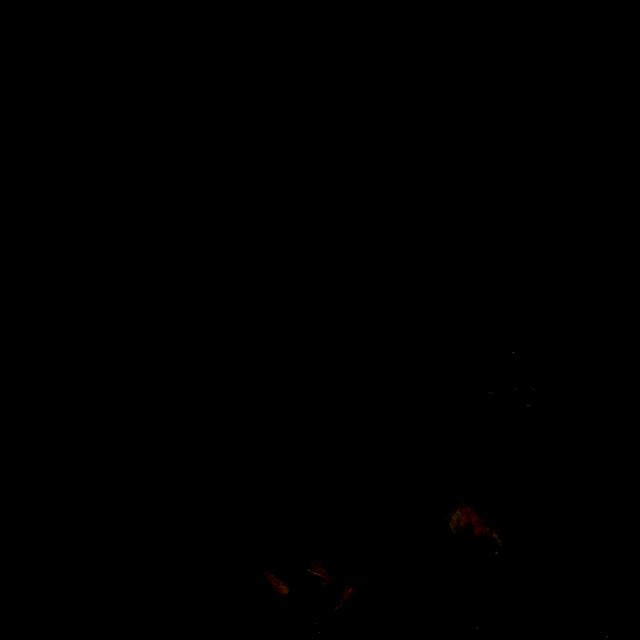Dog: (151, 274, 617, 614)
